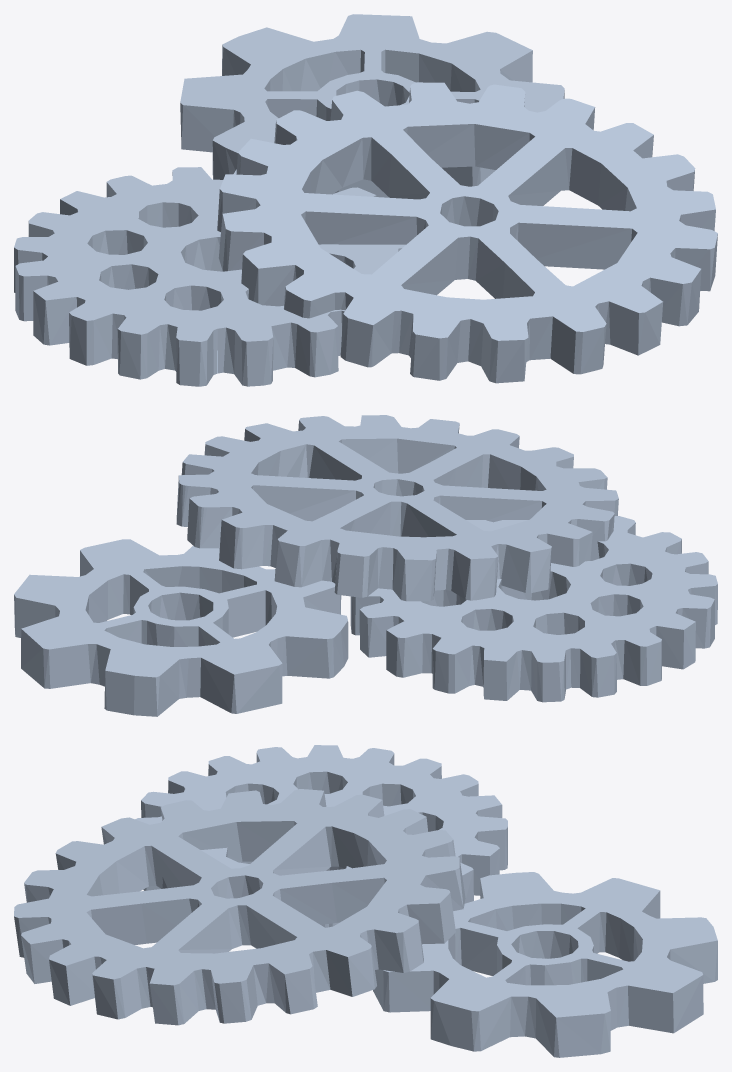
The model's file is gearPile.fbx.
3 views of the same model, one above another, from view 1: azimuth 30°, elevation 25°; view 2: azimuth 150°, elevation 25°; view 3: azimuth 270°, elevation 25° (orthographic). The views are drawn at different scales.
Parts seen in each view (by area): view 1: gears; view 2: gears; view 3: gears.
Boxes of the visible parts, left/top/right/bottom form: gears: left=14, top=14, right=717, bottom=386; gears: left=14, top=415, right=717, bottom=716; gears: left=14, top=745, right=717, bottom=1057.
Bounding box in the file's own units: 43.57 × 6.67 × 47.51.
